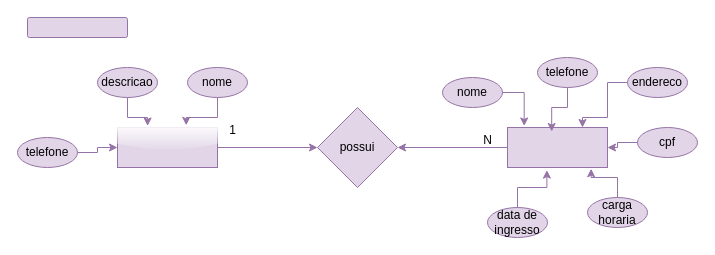
Some shapes in this 715 by 255 pixel diagram are drawn without their labels. The shapes that lost their labels are listed below. From the top down, each one's centre as x and y in pixels, then its label:
At [77,27]: "exercicio 01".
At [167,147]: "departamento".
At [557,147]: "funcionarios".
